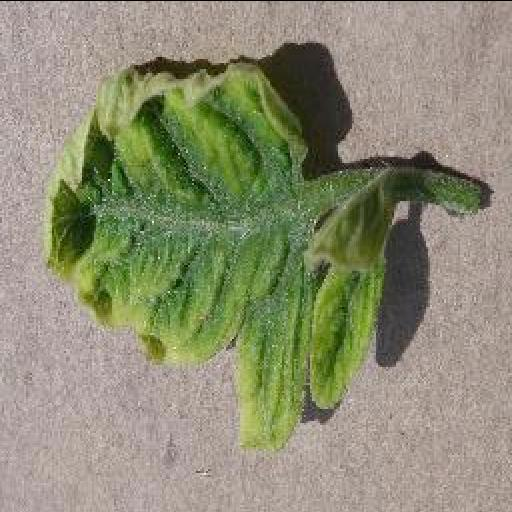disease_tomato: (39, 60, 385, 449)
